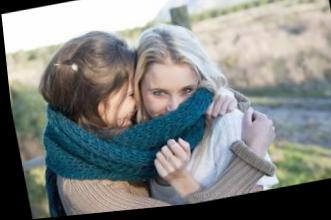NONE: (97, 83, 146, 147)
WRONG: (141, 77, 202, 140)
